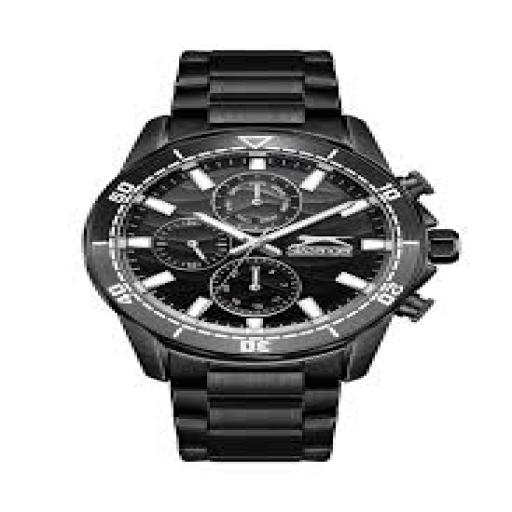KolSaati: (81, 38, 465, 478)
